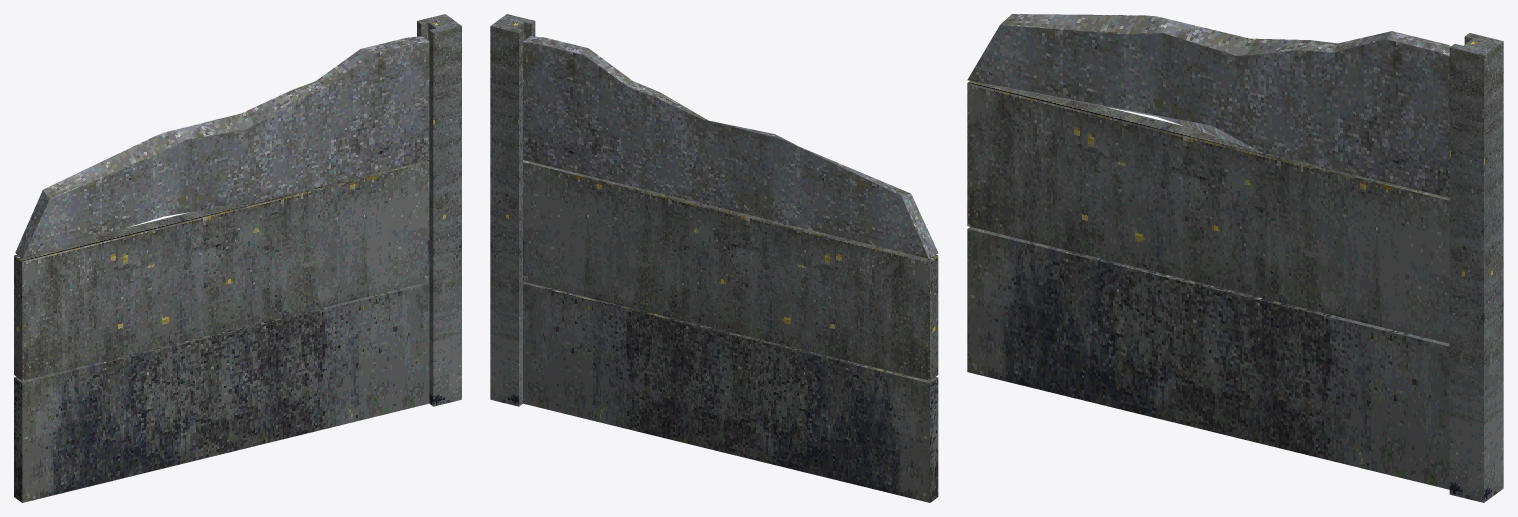
Rendered from plackard_broken_alt.glb.
3 views of the same model, side by side, from view 1: azimuth 30°, elevation 25°; view 2: azimuth 150°, elevation 25°; view 3: azimuth 330°, elevation 25° (orthographic). The views are drawn at different scales.
Parts seen in each view (by area): view 1: plackard_broken_alt; view 2: plackard_broken_alt; view 3: plackard_broken_alt.
Part boxes in pixels (x1=…): plackard_broken_alt: x1=14, y1=14, x2=461, y2=502; plackard_broken_alt: x1=490, y1=14, x2=938, y2=502; plackard_broken_alt: x1=967, y1=14, x2=1503, y2=502.
Size of the model in its own units: 3.05 by 2.5 by 0.2.
1 material, 1 textured.
